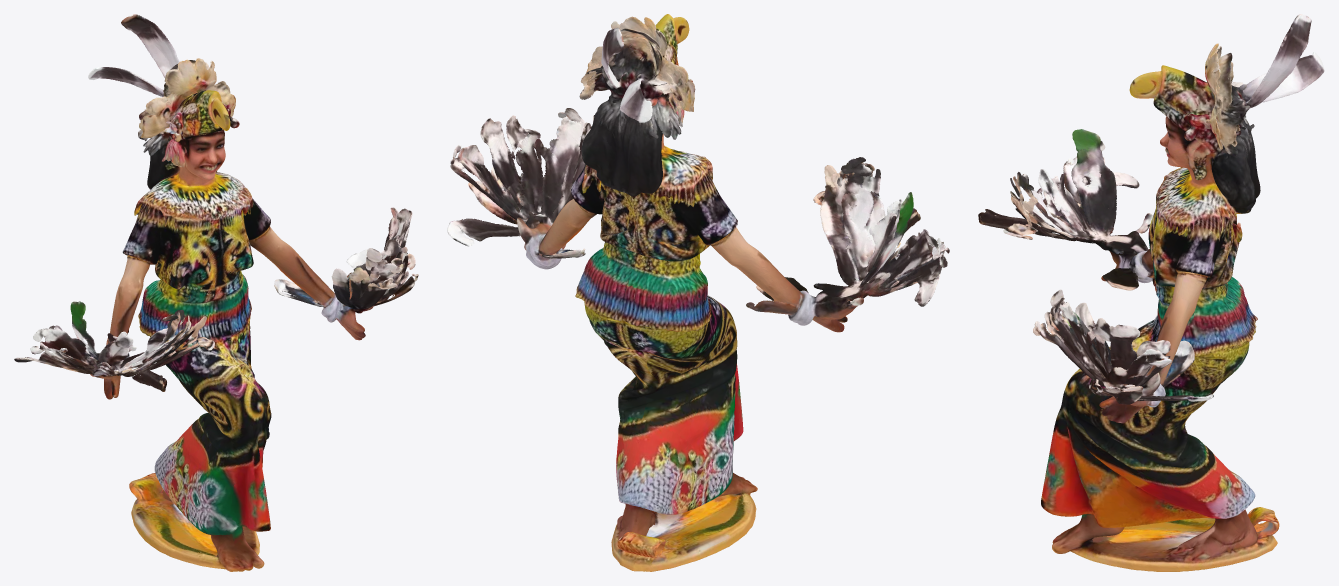
Rendered from tari-gong.glb.
3 renders of one model, left to right at view 1: azimuth 30°, elevation 25°; view 2: azimuth 150°, elevation 25°; view 3: azimuth 270°, elevation 25°, orthographic. The views are drawn at different scales.
Parts seen in each view (by area): view 1: Object_4; view 2: Object_4; view 3: Object_4.
Part boxes in pixels (x1,y1,x2,y2): Object_4: [14, 14, 418, 571]; Object_4: [447, 14, 949, 571]; Object_4: [978, 14, 1324, 571].
Size of the model in its own units: 0.8844 by 1 by 0.5913.
Materials: 1 (1 with a texture image).
